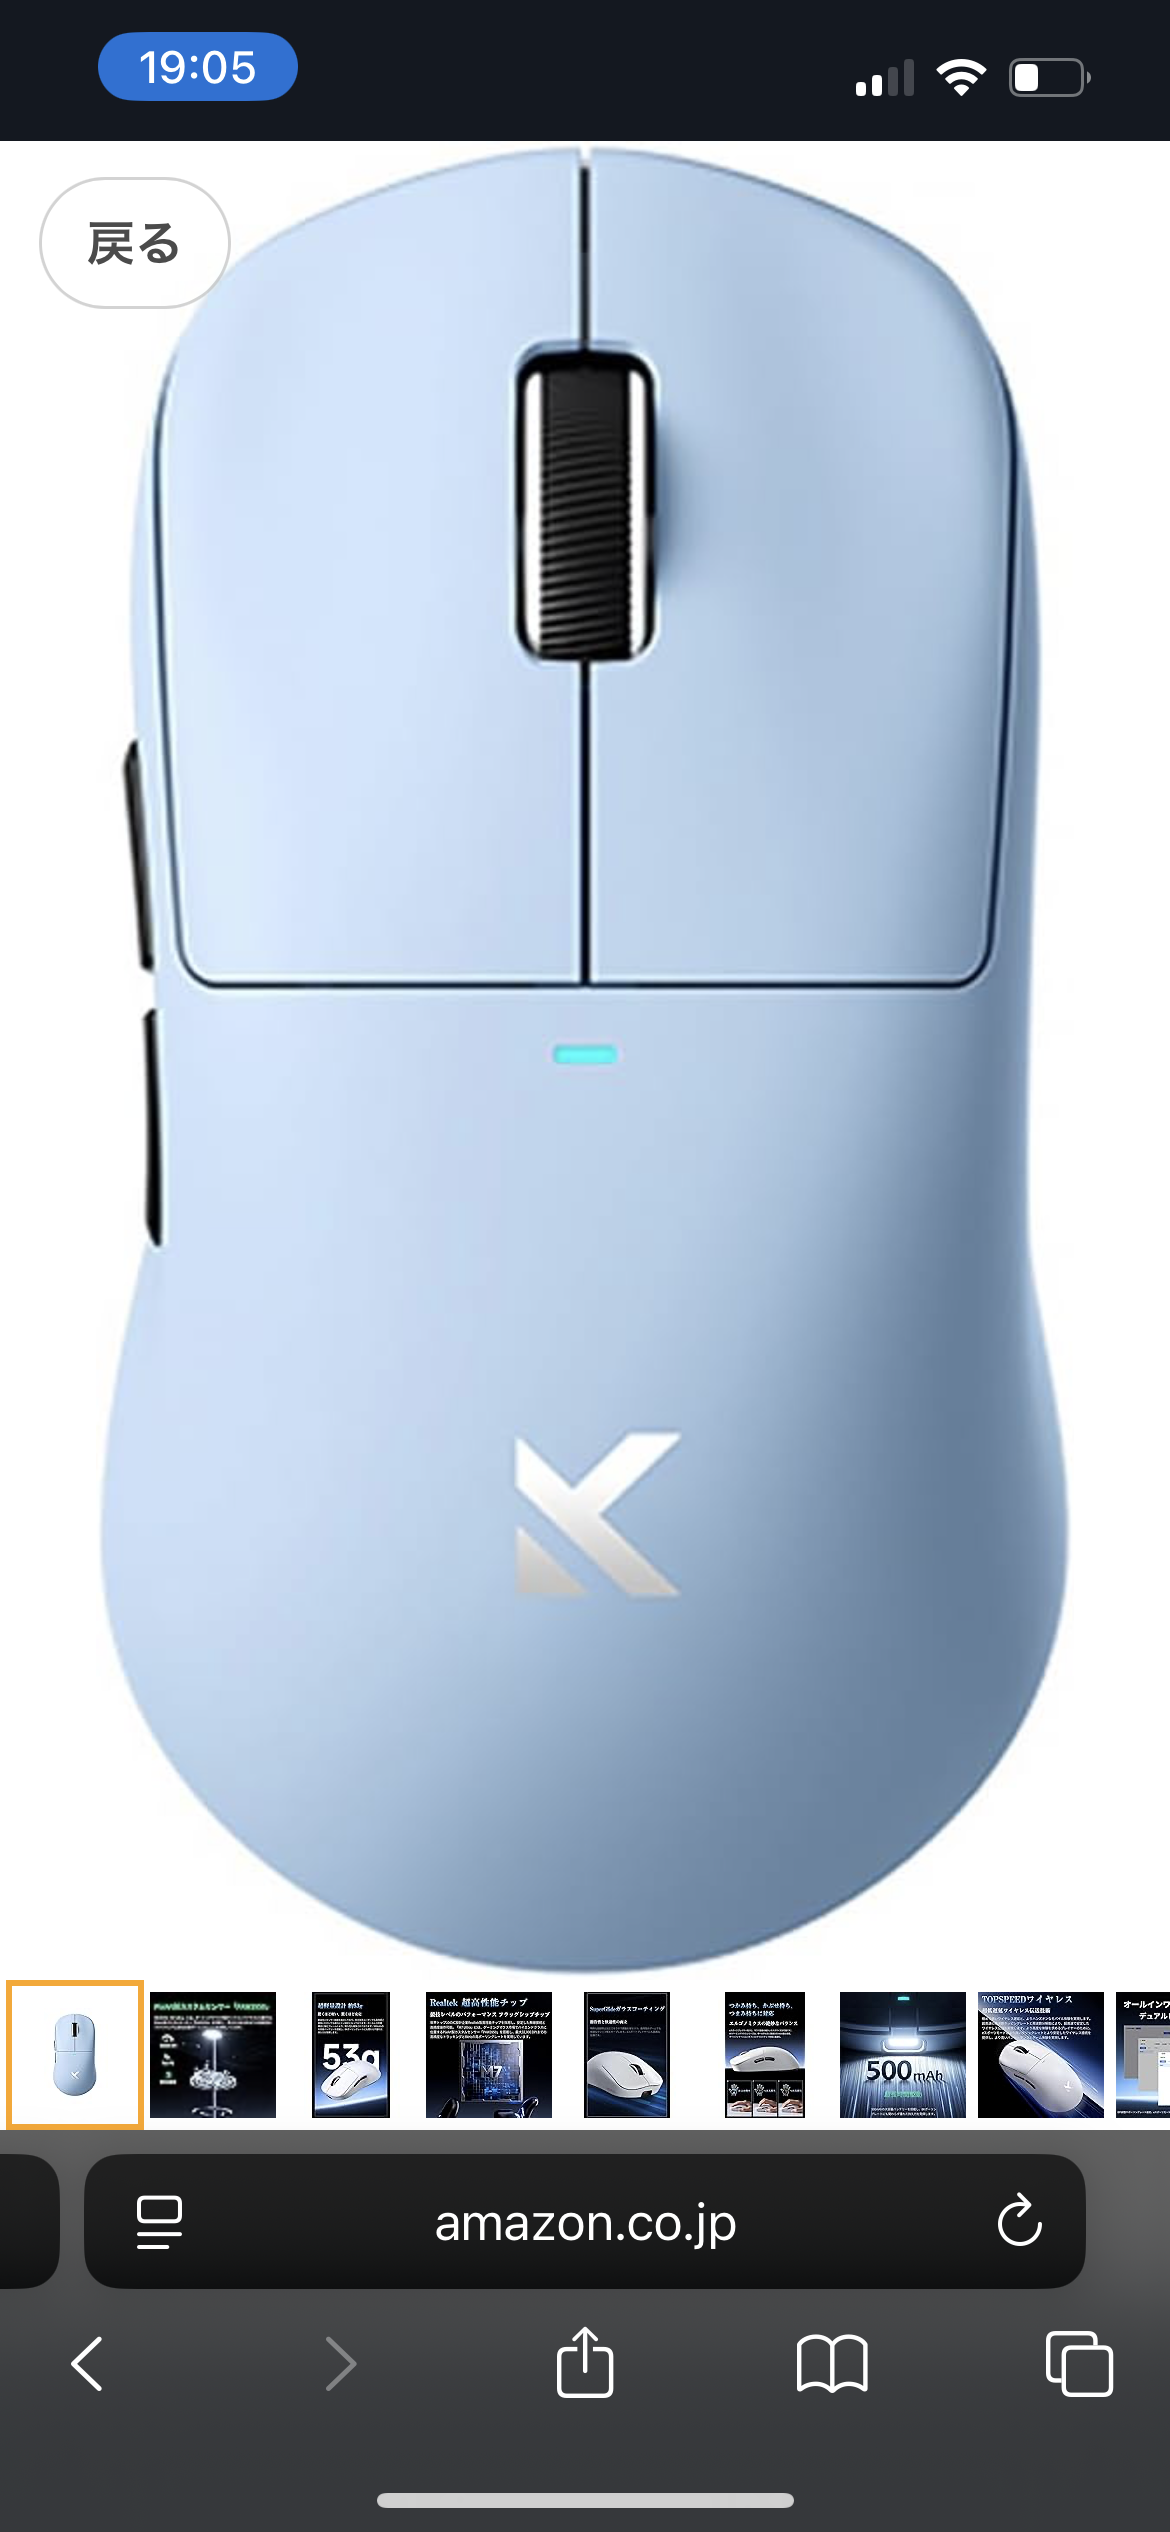mouse: (495, 152, 670, 1975)
